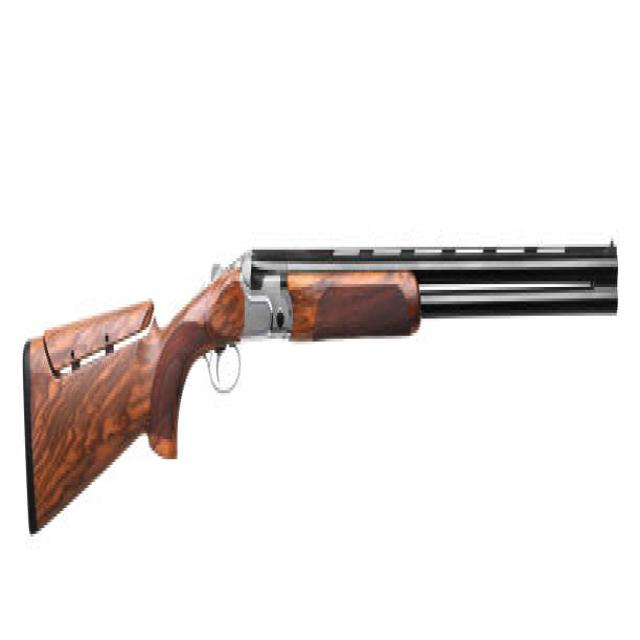rifle: (20, 224, 628, 541)
